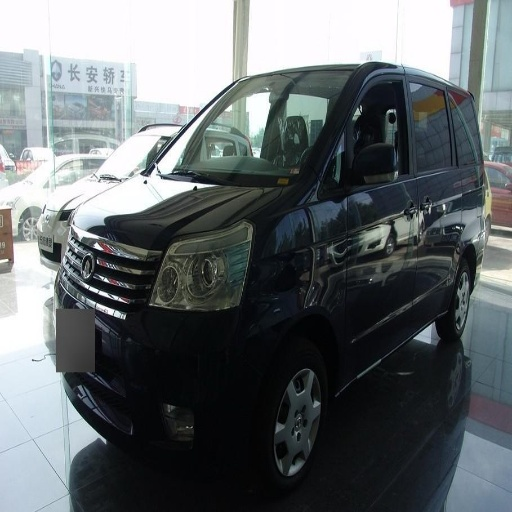front_bumper: (55, 224, 269, 447)
front_glass: (103, 68, 355, 184)
front_left_door: (321, 69, 418, 358)
